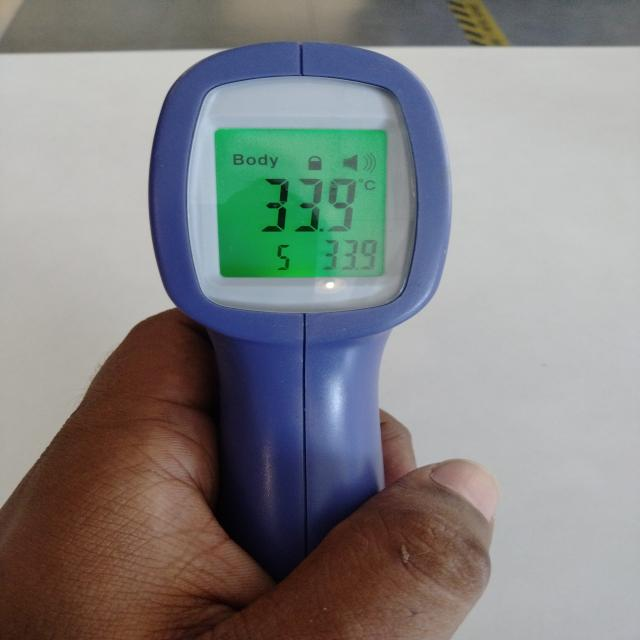display: (210, 124, 391, 280)
frame: (259, 176, 358, 236), (322, 238, 379, 272), (273, 241, 293, 273)
gauge: (145, 39, 456, 584)
